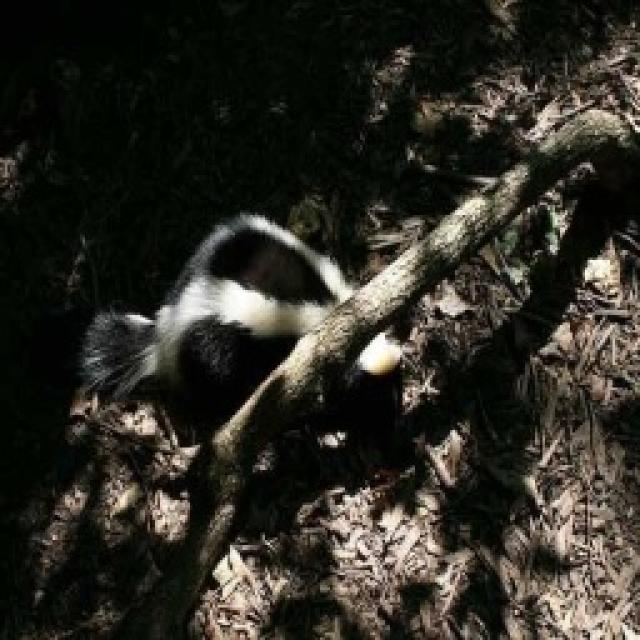not_pig: (0, 0, 638, 638), (75, 205, 407, 453)
